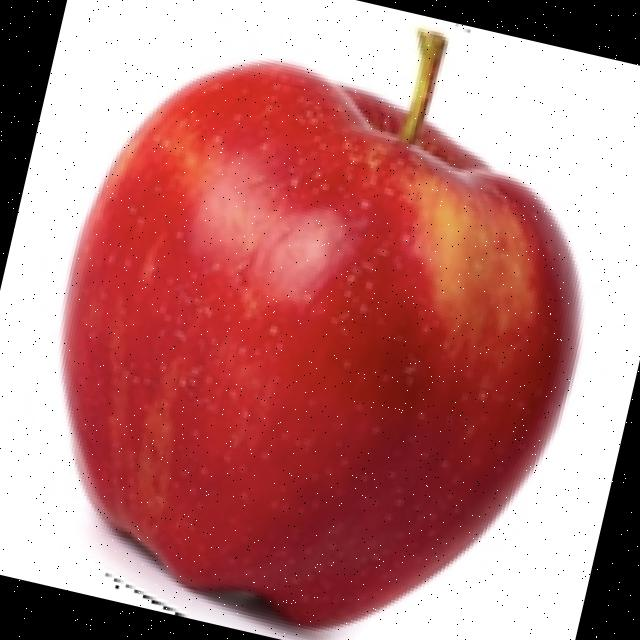apple: (56, 54, 588, 640)
